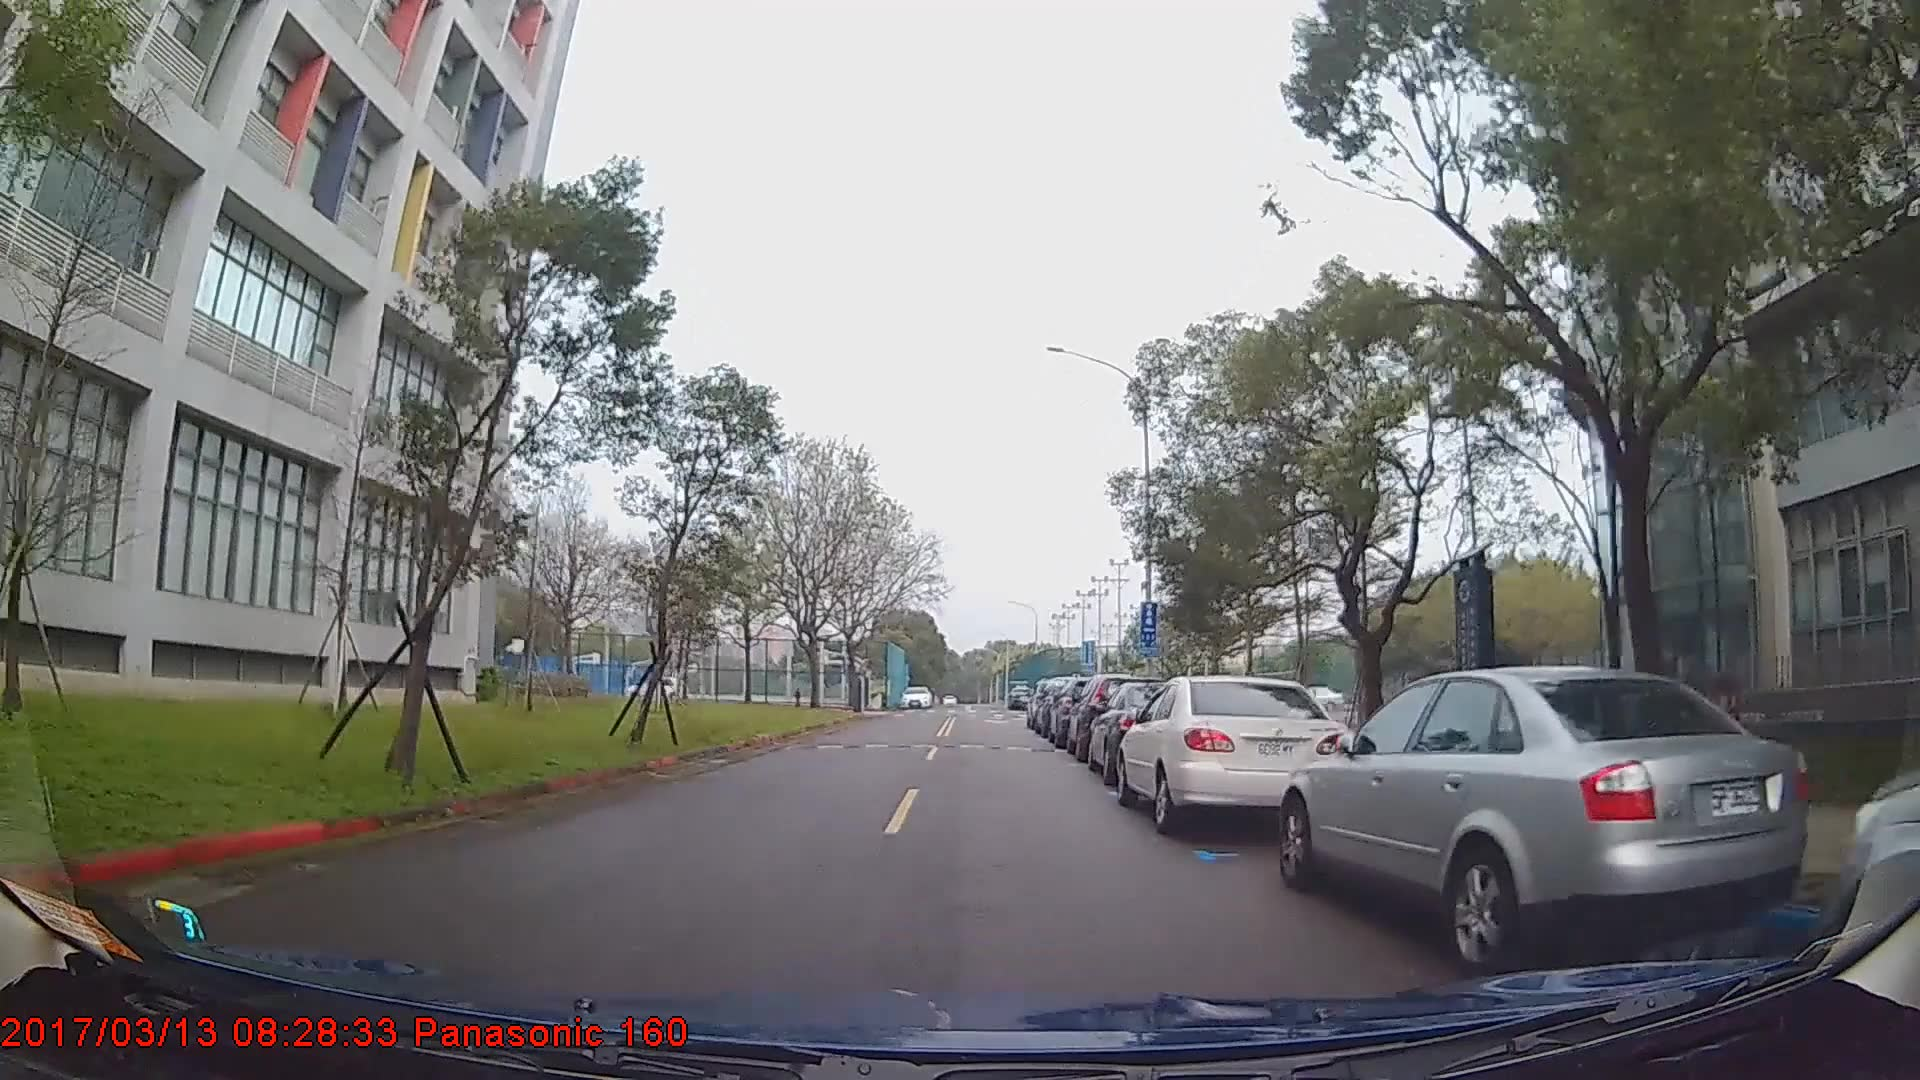vehicle: (1282, 662, 1811, 972), (1116, 673, 1360, 839), (899, 684, 931, 708)
